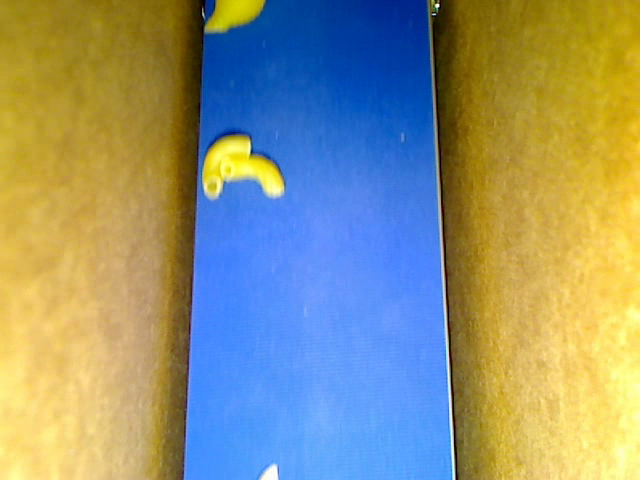elbow: (202, 133, 251, 199), (220, 153, 283, 196)
shell: (205, 1, 265, 33)
